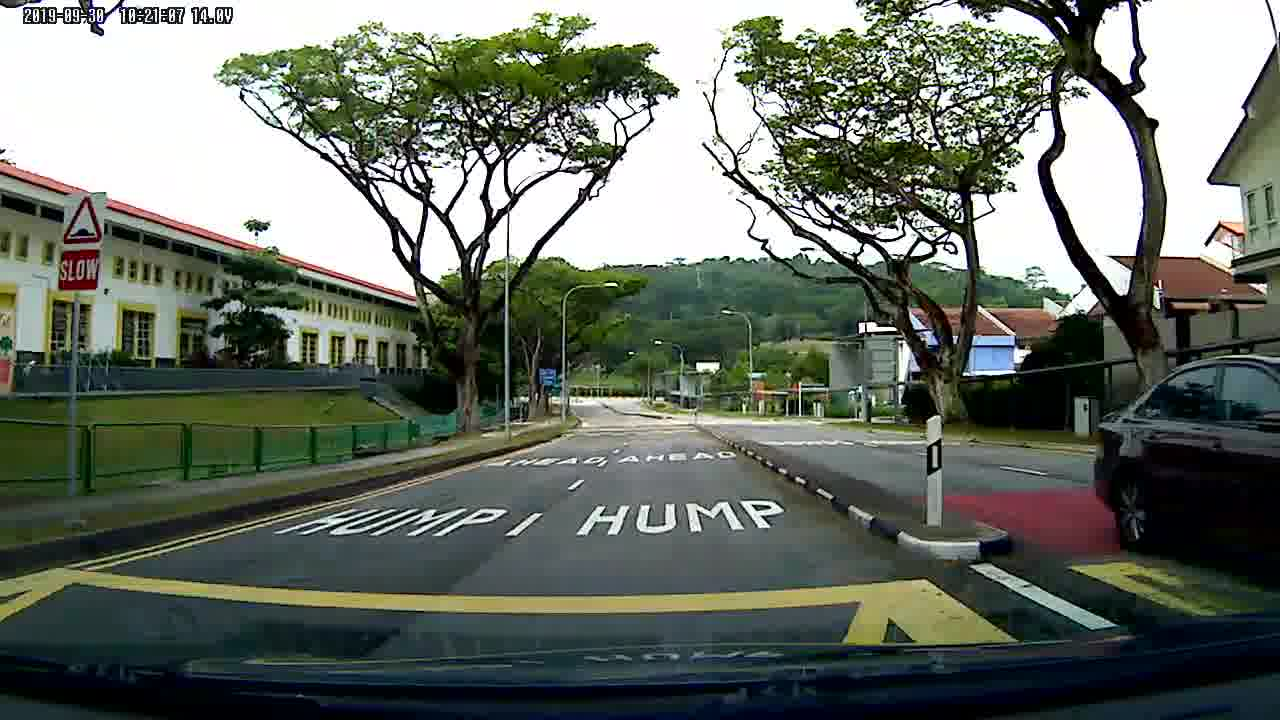car: (1089, 356, 1280, 574)
